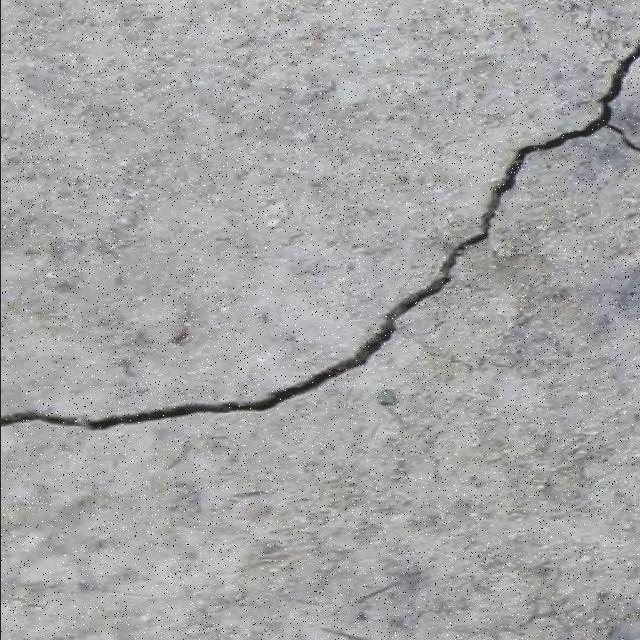crack: (1, 39, 638, 432)
